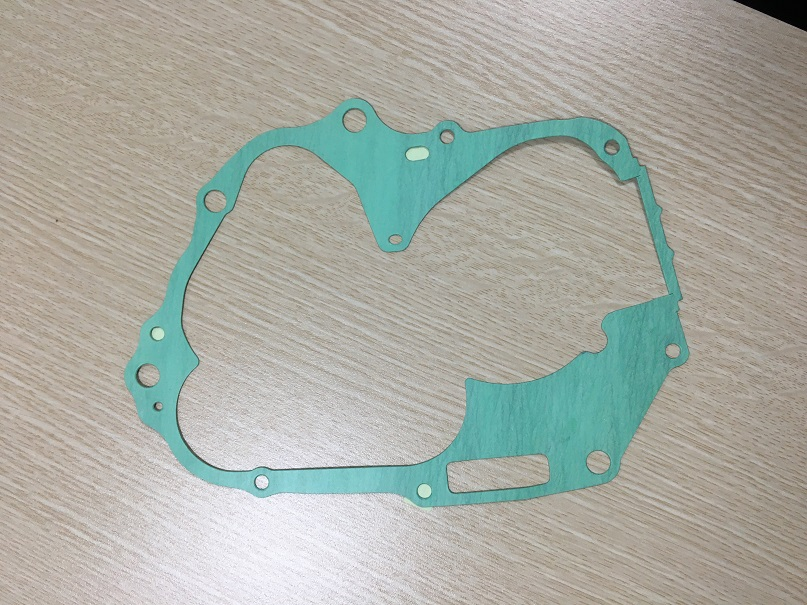type3: (109, 97, 714, 509)
